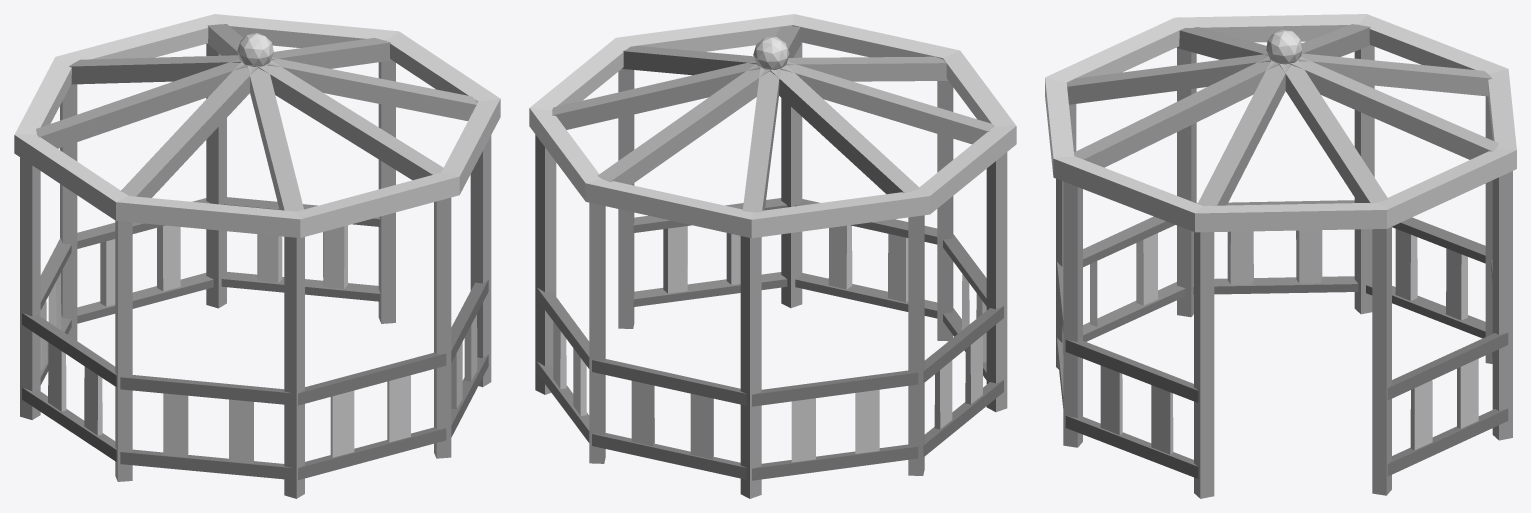
File: Pergola_01.glb
3 views of the same model, side by side, from view 1: azimuth 30°, elevation 25°; view 2: azimuth 150°, elevation 25°; view 3: azimuth 270°, elevation 25° (orthographic). The views are drawn at different scales.
Visible parts, largest first — view 1: Pergola_01; view 2: Pergola_01; view 3: Pergola_01.
Boxes of the visible parts, x1,y1,x2,y2 form: Pergola_01: [14, 14, 500, 498]; Pergola_01: [529, 14, 1016, 498]; Pergola_01: [1045, 14, 1516, 498].
Size of what is drawn, in the model's own units: 5.35 by 4.65 by 5.35.
Materials: 1 (1 with a texture image).
